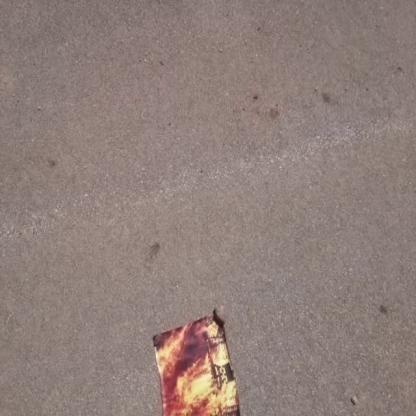fire-poster: (151, 306, 242, 415)
